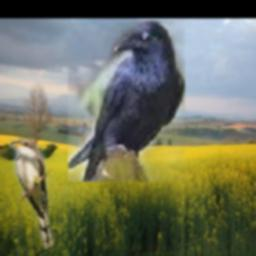Crow: (68, 20, 185, 182)
Cuckoo: (11, 138, 54, 250)
